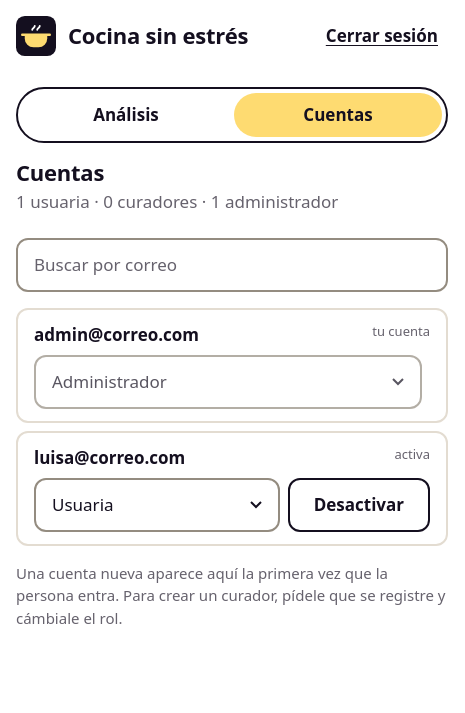
Test: Cuentas y roles (rol ADMIN) › asigna el rol de curador y desactiva una cuenta; la propia no se puede tocar
Expected: the text "1 usuaria · 0 curadores · 1 administrador" is shown, [16, 190, 338, 213]
Expected: the dropdown named "Rol de admin@correo.com" below "admin@correo.com" is disabled, [34, 355, 422, 409]
Select "Curador de contenido" in the dropdown named "Rol de luisa@correo.com" below "luisa@correo.com" at coordinates (157, 505), box [34, 478, 280, 532]
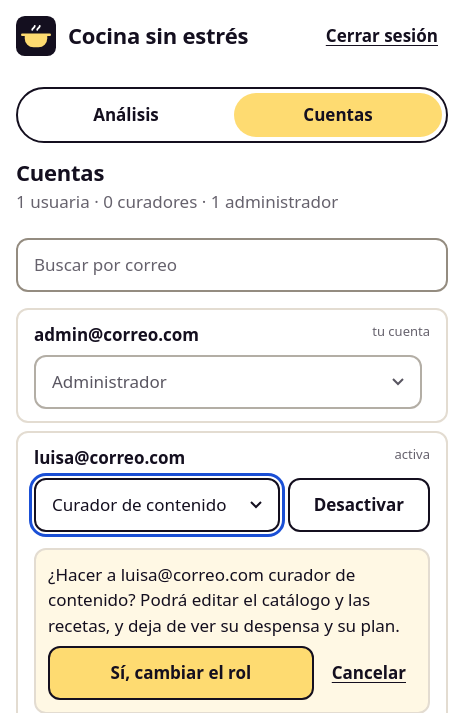
Now the text "deja de ver su despensa y su plan" is shown, box [48, 563, 400, 637]
Click the button "Sí, cambiar el rol".
click(181, 673)  # box [48, 646, 314, 700]
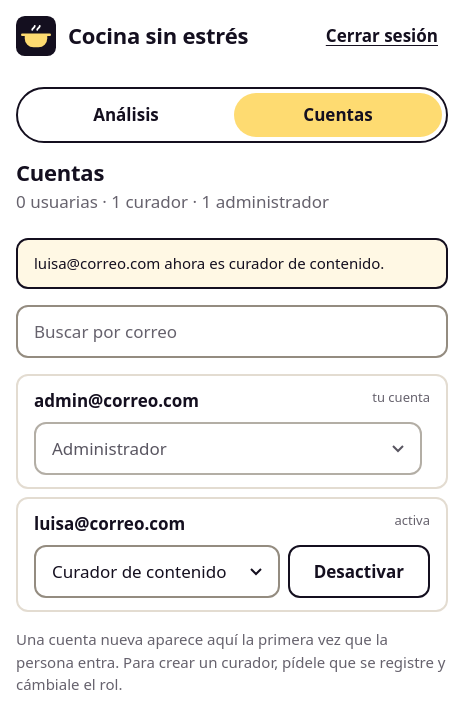
Now the text "luisa@correo.com ahora es curador de contenido." is shown, box [16, 238, 448, 289]
Click the button with aria-label "Desactivar luisa@correo.com".
click(359, 572)  # box [288, 545, 430, 598]
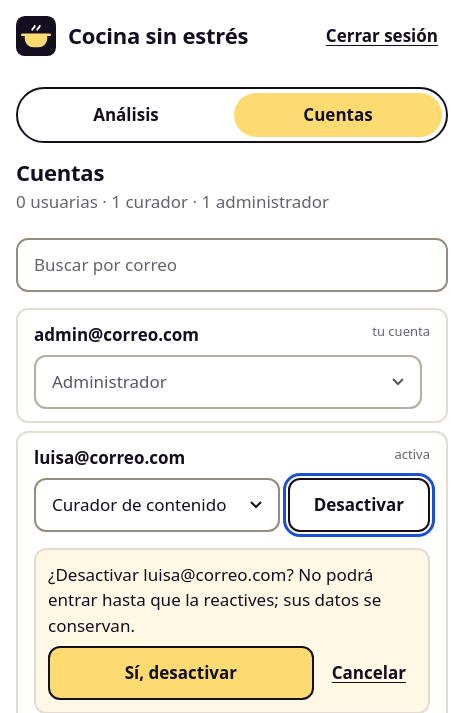
Click the button "Sí, desactivar".
click(181, 673)  # box [48, 646, 314, 700]
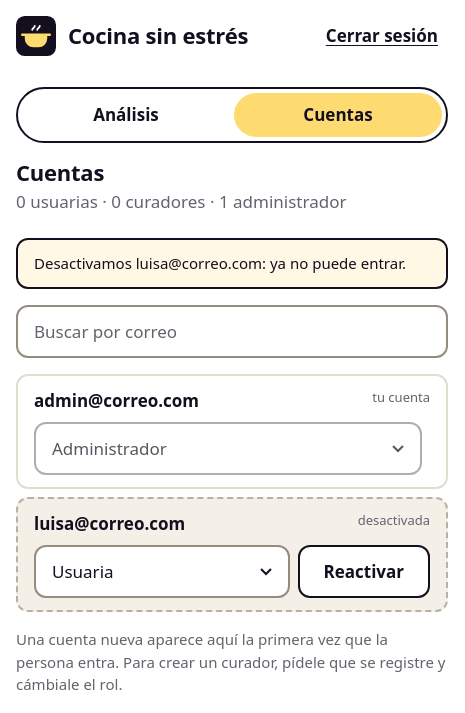
Now the text "Desactivamos luisa@correo.com: ya no puede entrar." is shown, box [16, 238, 448, 289]
Now the text "desactivada" is shown, box [358, 511, 430, 537]
Now the button with aria-label "Reactivar luisa@correo.com" is shown, box [298, 545, 430, 598]
